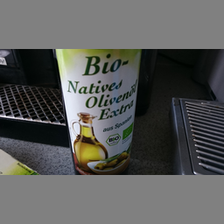oil: (54, 48, 143, 173)
